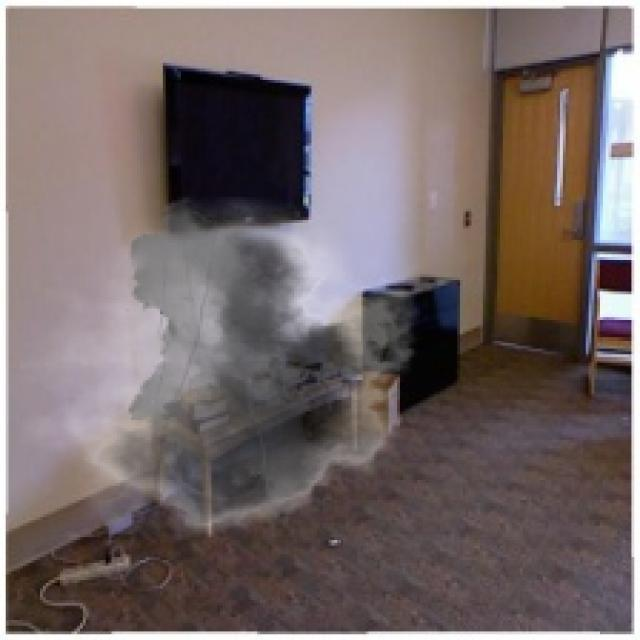Smoke: (17, 197, 437, 554)
